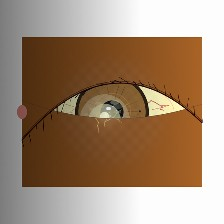corneal_ulcer: (77, 99, 133, 143)
